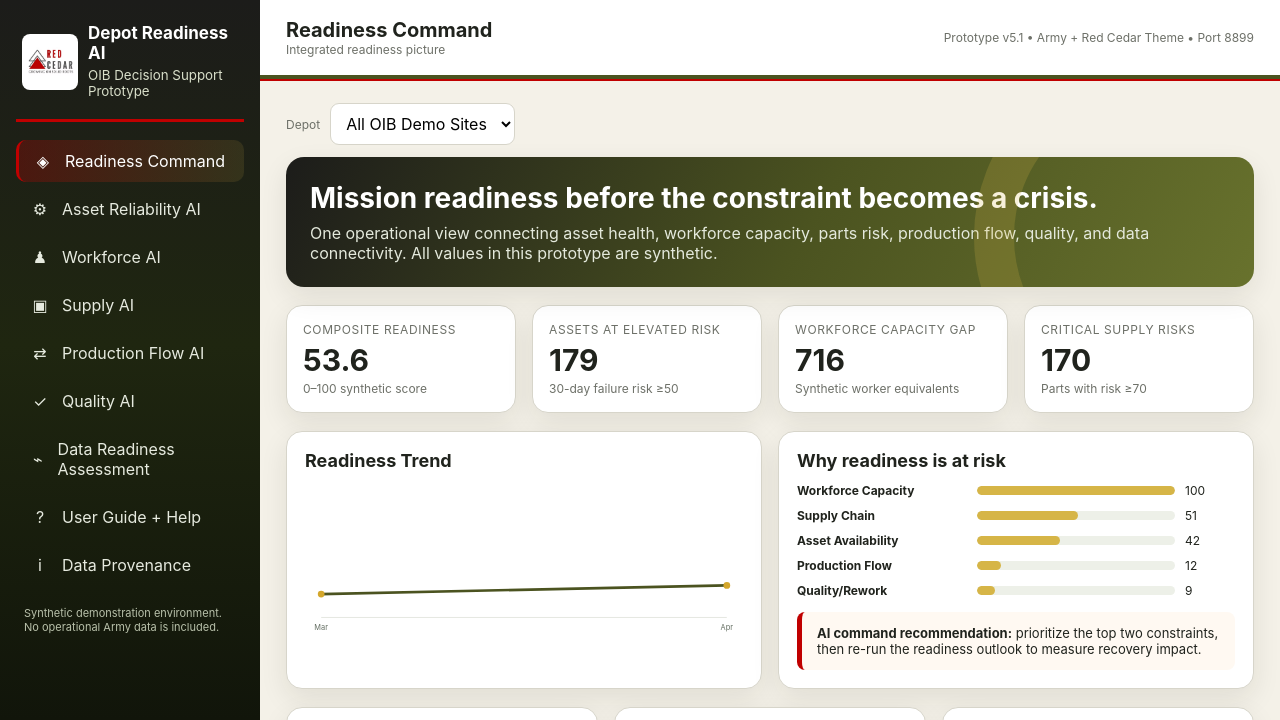
Test case: Depot Readiness React UI › retains the selected depot while moving between operational modules
Select "RRAD" in the dropdown labelled "Depot" at (423, 124), box [330, 103, 515, 145]
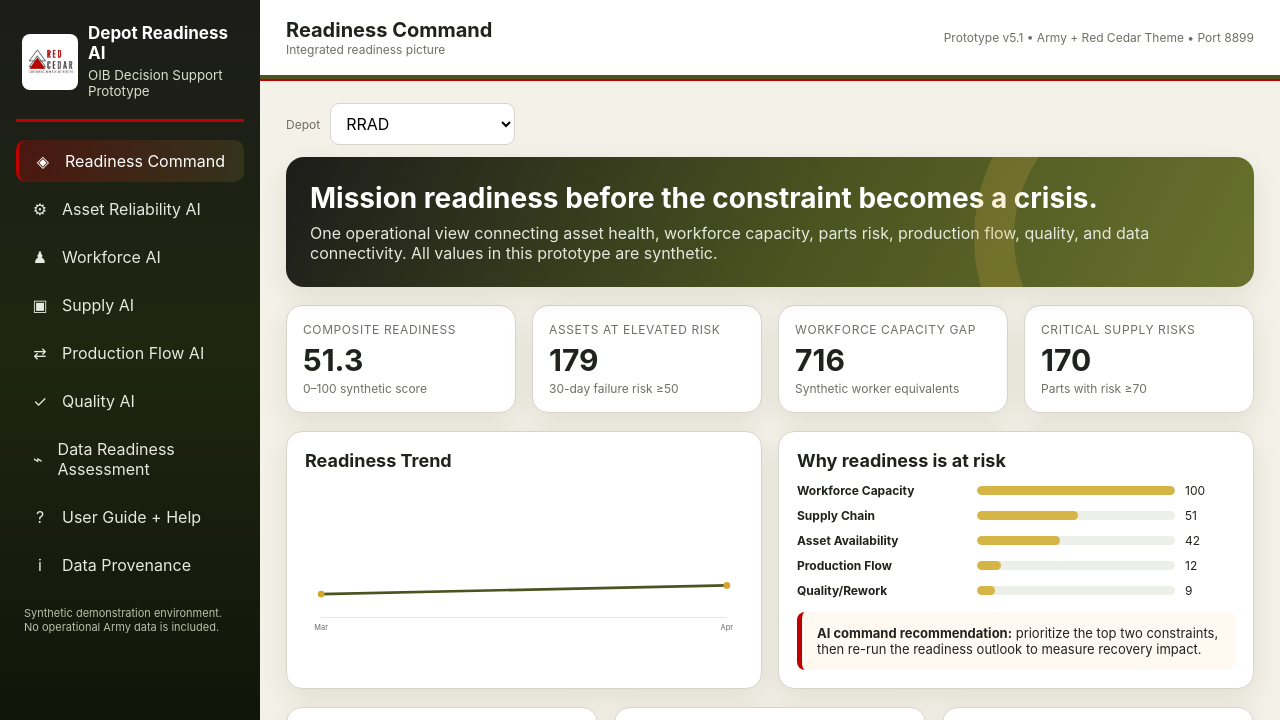
Check: the text "51.3" is shown, box [303, 342, 363, 378]
Click the button "⚙ Asset Reliability AI" at (130, 209), box [16, 188, 244, 230]
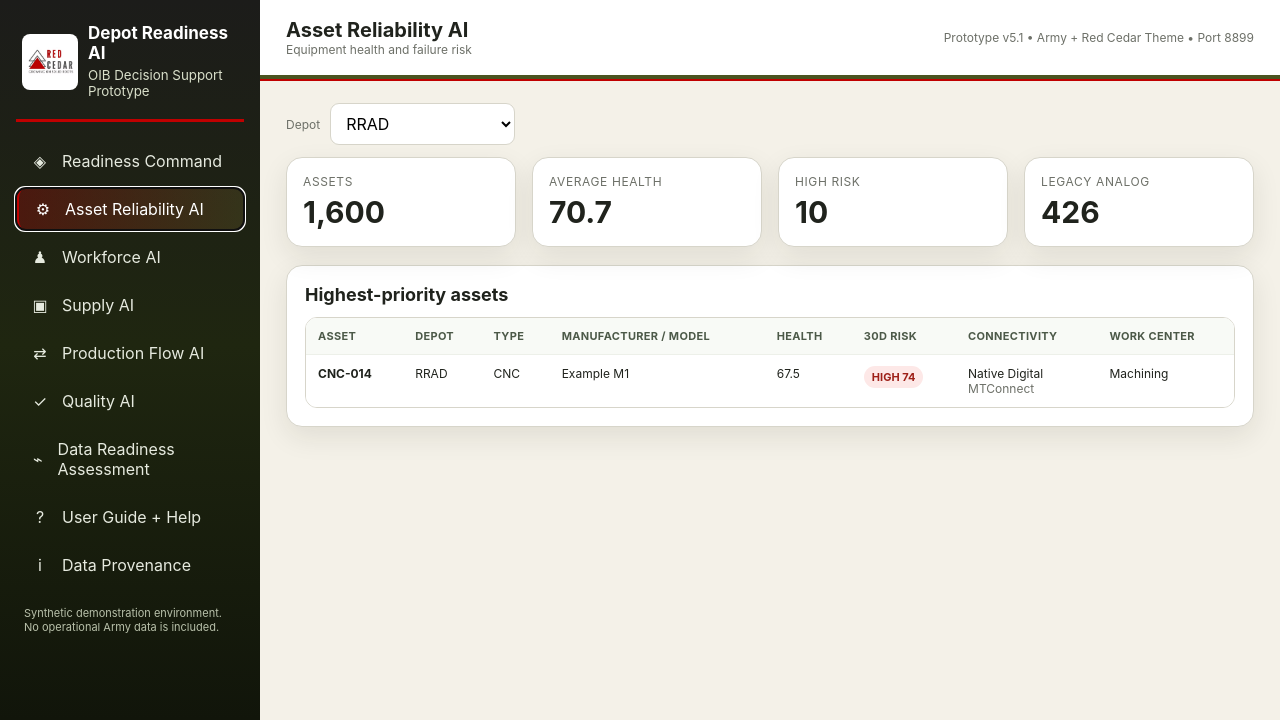
Check: the dropdown labelled "Depot" shows "RRAD", box [330, 103, 515, 145]
Check: the heading "Highest-priority assets" is shown, box [305, 284, 508, 305]
Check: the text "CNC-014" is shown, box [318, 366, 372, 381]
Click the button "⇄ Production Flow AI" at (130, 353), box [16, 332, 244, 374]
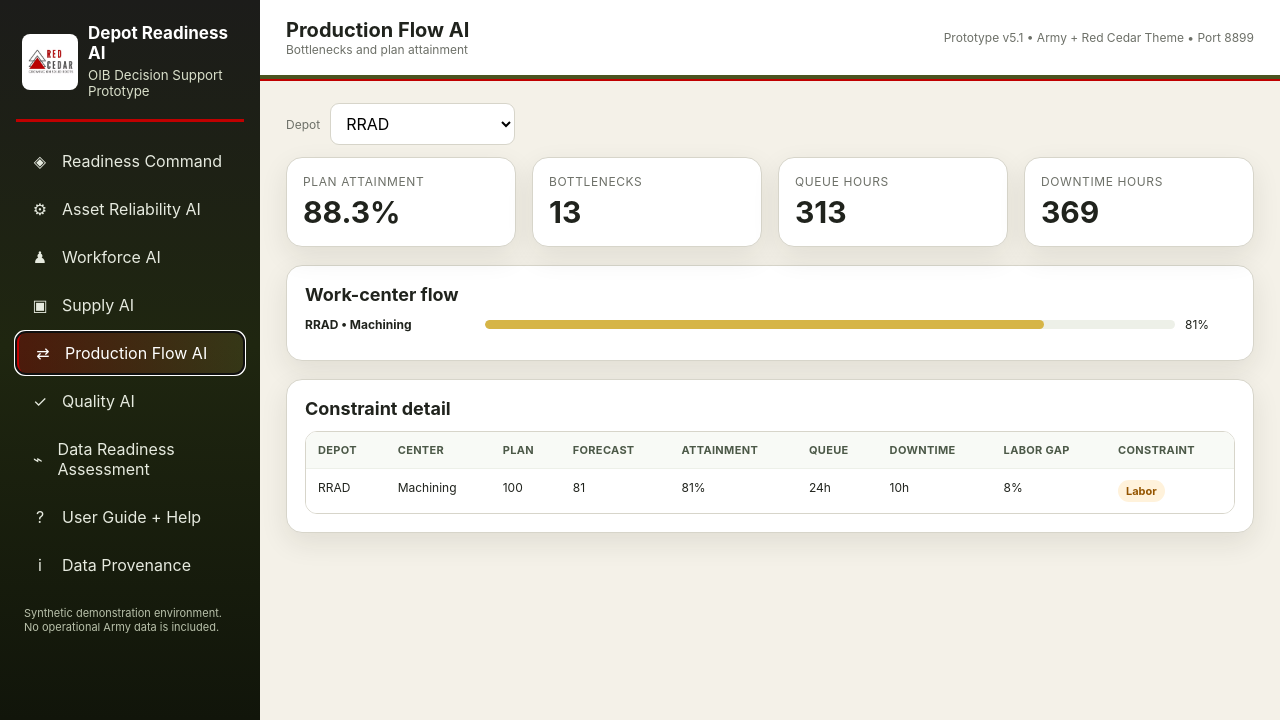
Check: the dropdown labelled "Depot" shows "RRAD", box [330, 103, 515, 145]
Check: the heading "Work-center flow" is shown, box [305, 284, 459, 305]
